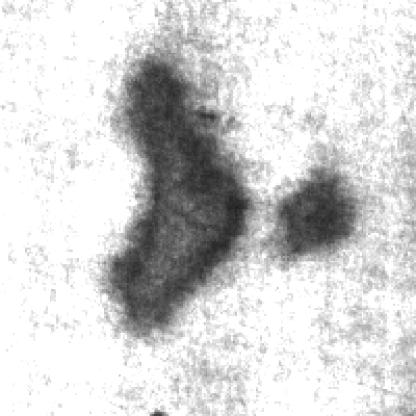patches: (110, 54, 256, 337), (274, 164, 364, 252)
